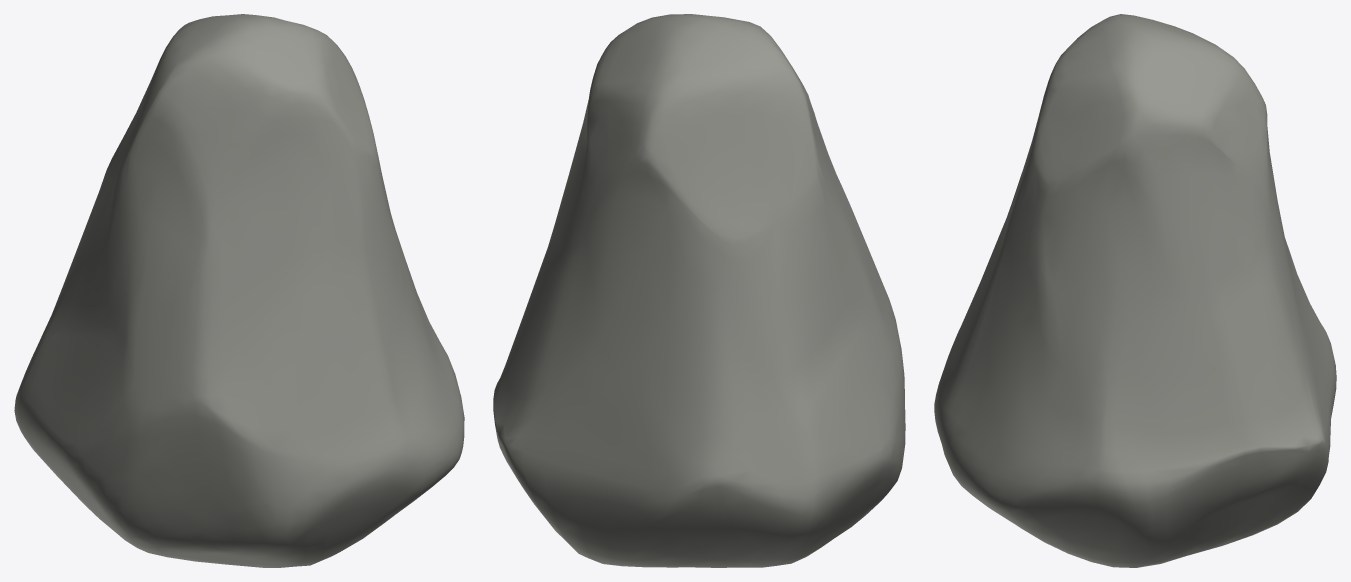
Rendered from quaternius-pirate-environment-rock-2.glb.
The picture shows the model from 3 angles, left to right: view 1: azimuth 30°, elevation 25°; view 2: azimuth 150°, elevation 25°; view 3: azimuth 270°, elevation 25°; orthographic projection. The views are drawn at different scales.
Visible parts, largest first — view 1: Environment_Rock_2; view 2: Environment_Rock_2; view 3: Environment_Rock_2.
Boxes of the visible parts, box(x1,y1,x2,y2) form: Environment_Rock_2: box(14, 14, 464, 567); Environment_Rock_2: box(493, 14, 905, 567); Environment_Rock_2: box(934, 14, 1336, 567).
Size of the model in its own units: 0.7832 by 1.05 by 0.7585.
Materials: 1 (1 with a texture image).
